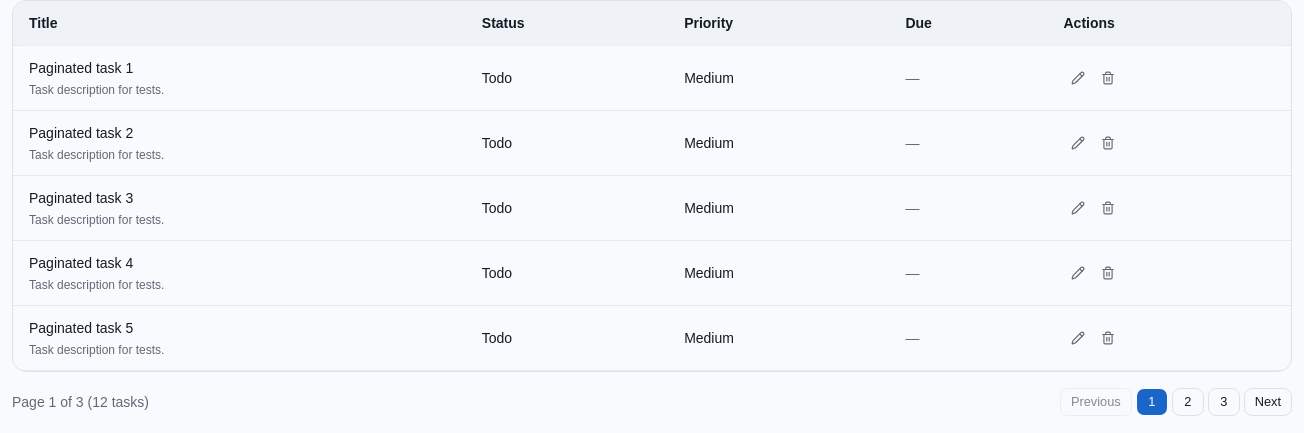
Test: ListView › shows numbered pagination controls
Expected: the text "Paginated task 1" is shown, 29,60 -> 133,76
Expected: the navigation bar named "Pagination" is shown, 1060,388 -> 1292,416
Click the button named "Page 2".
click(1188, 402)  # box 1172,388 -> 1204,416
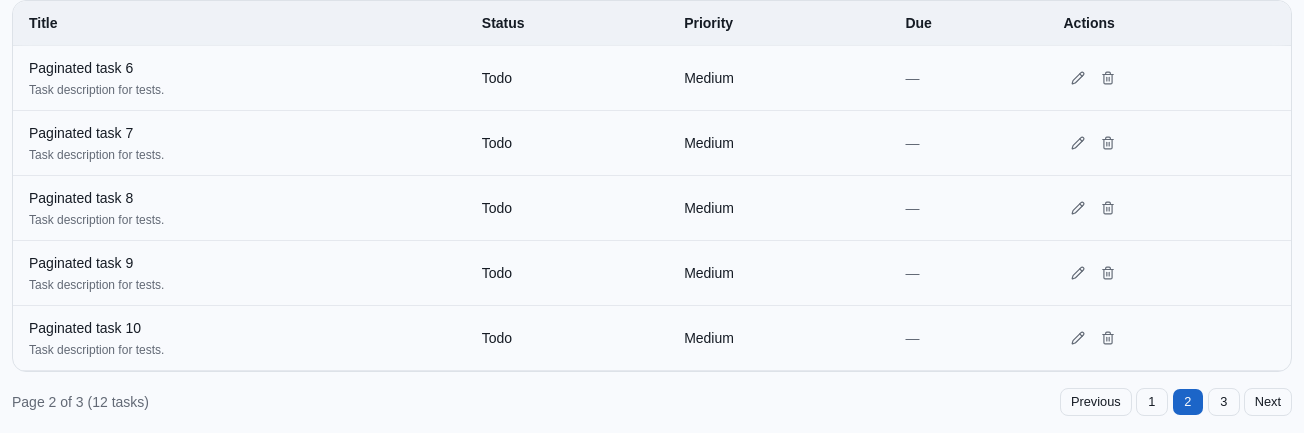
Result: the text "Paginated task 6" is shown at 29,60 -> 133,76
